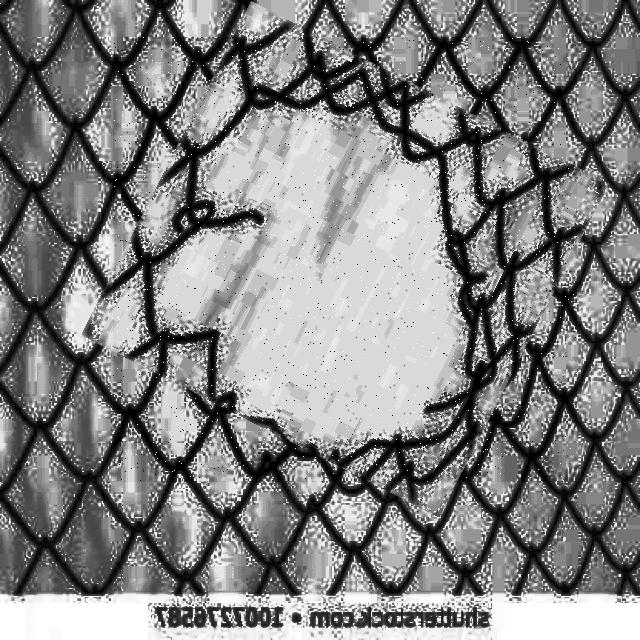anomaly-fence: (113, 37, 577, 482)
